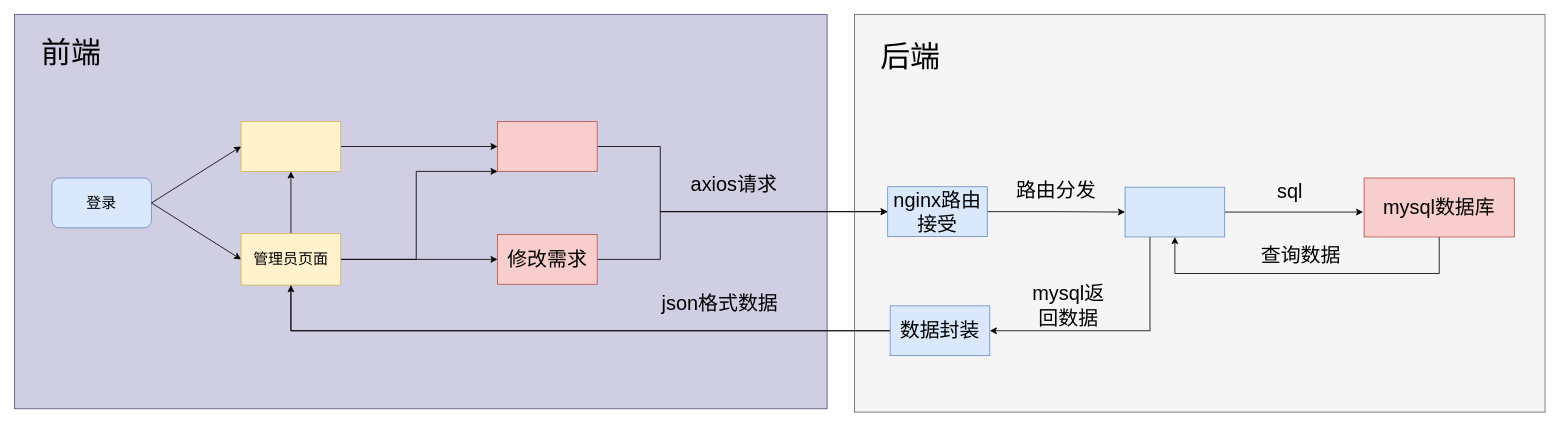
Some shapes in this 1560 by 427 pixel diagram are drawn without their labels. The shapes that lost their labels are listed below. From the top down, each one's box as (x1, y1, x2, y2) in pixels, then its label:
(240, 121, 341, 171): 用户页面
(497, 121, 597, 171): 查询需求
(1124, 186, 1225, 237): flask路由处理
